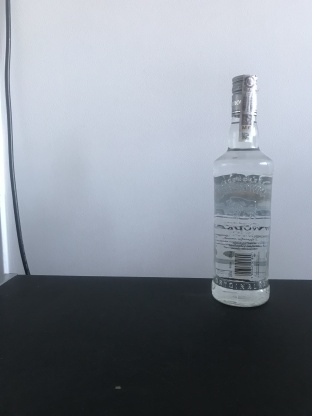nakretka: (229, 72, 260, 119)
